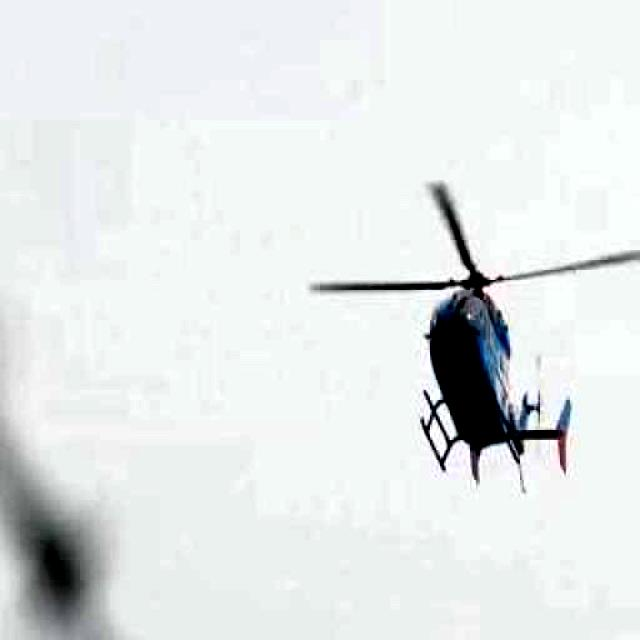drone: (318, 172, 639, 512)
